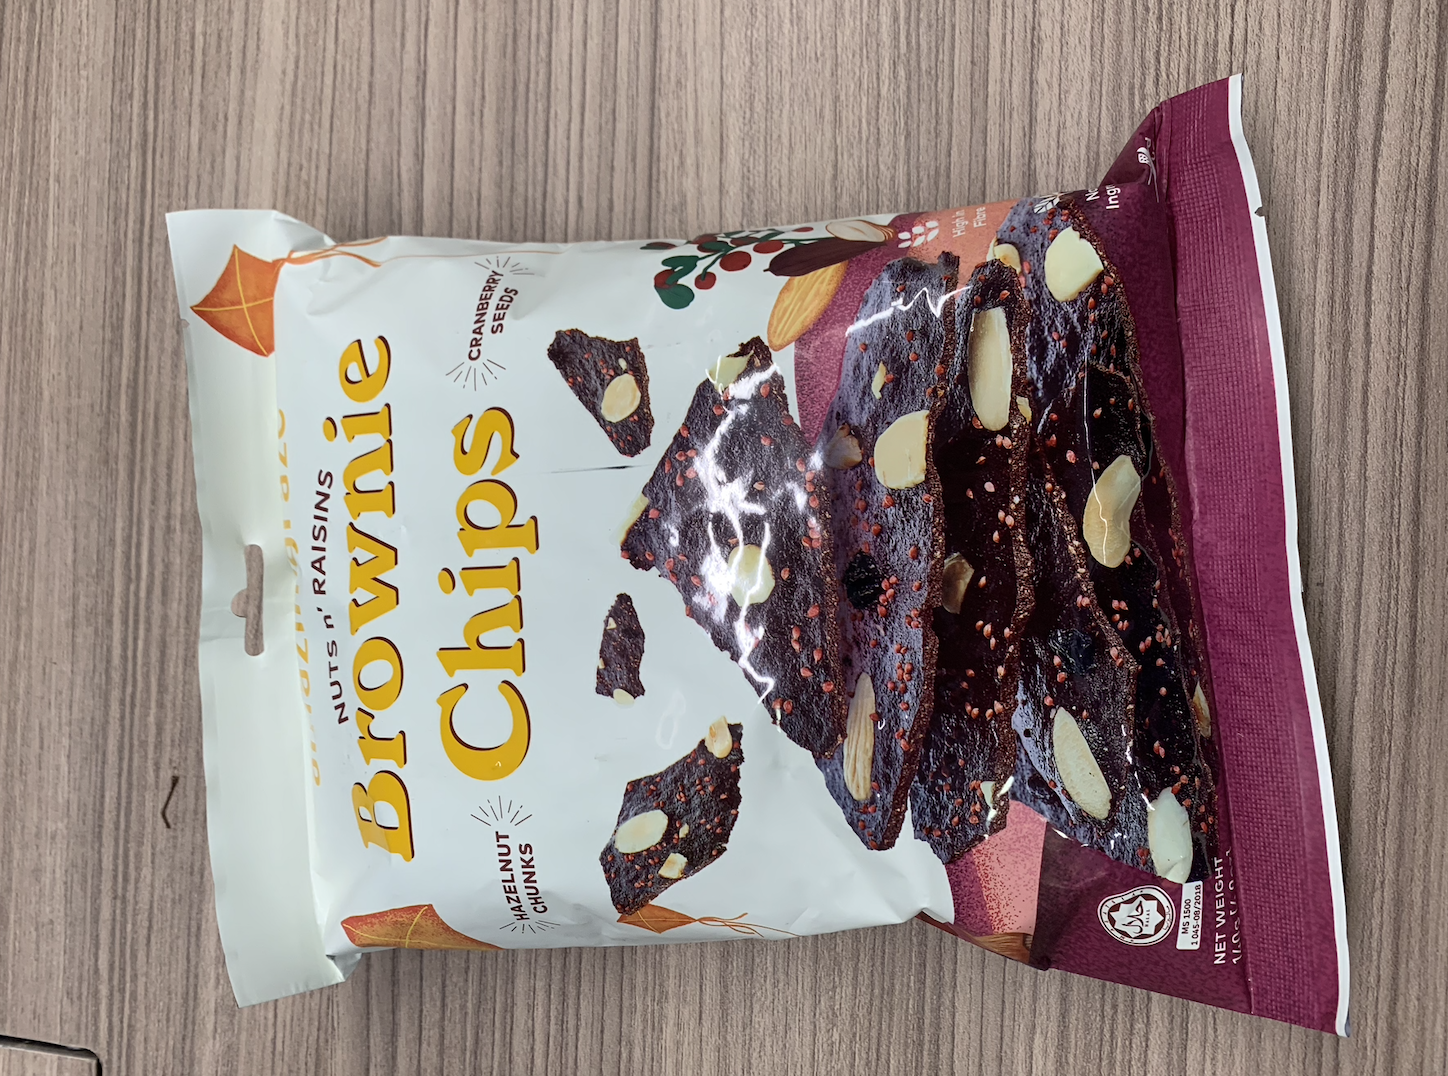crackers_100g-199g: (254, 248, 1238, 953)
